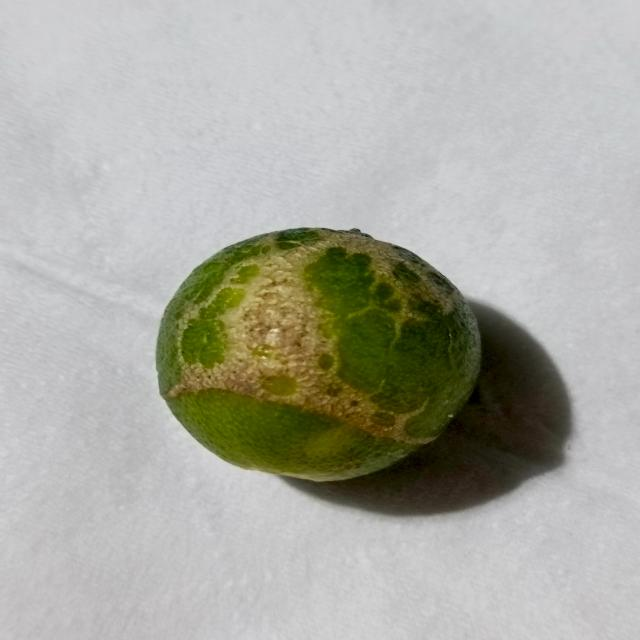thrips: (150, 220, 482, 491)
